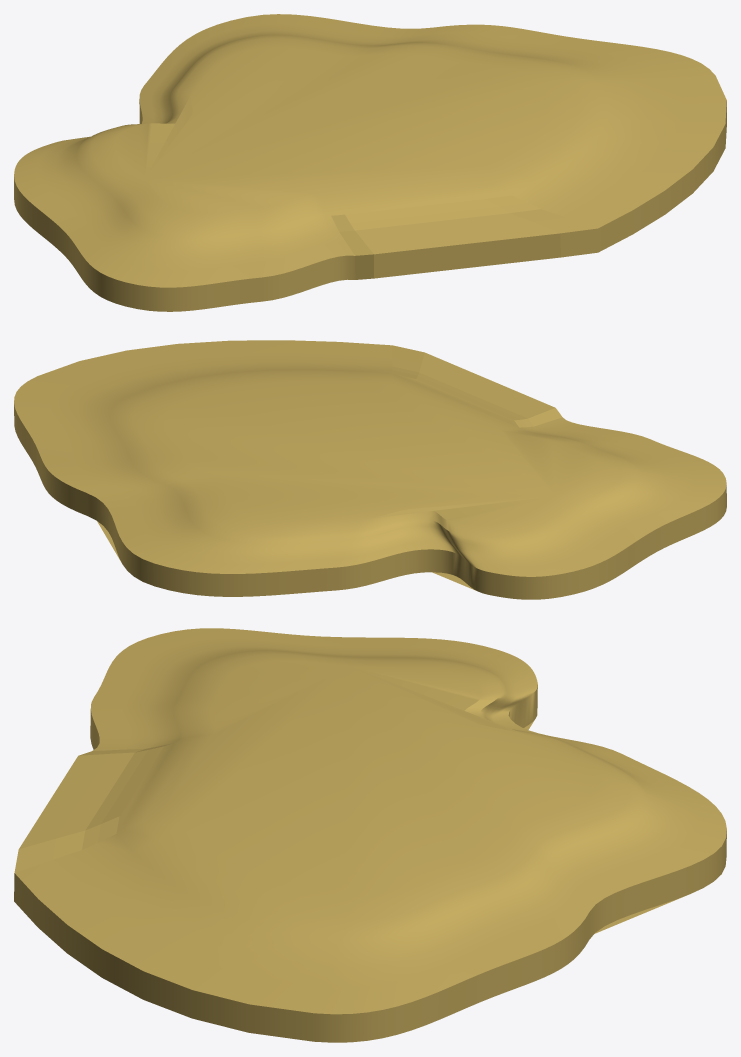
The model's file is pathawayJUSTBASE.fbx.
3 views of the same model, one above another, from view 1: azimuth 30°, elevation 25°; view 2: azimuth 150°, elevation 25°; view 3: azimuth 270°, elevation 25° (orthographic). The views are drawn at different scales.
Visible parts, largest first — view 1: BézierCircle.043; view 2: BézierCircle.043; view 3: BézierCircle.043.
Boxes of the visible parts, x1,y1,x2,y2 form: BézierCircle.043: (14, 14, 726, 311); BézierCircle.043: (14, 340, 726, 599); BézierCircle.043: (14, 628, 726, 1042).
Size of the model in its own units: 43591 by 3011 by 34054.
